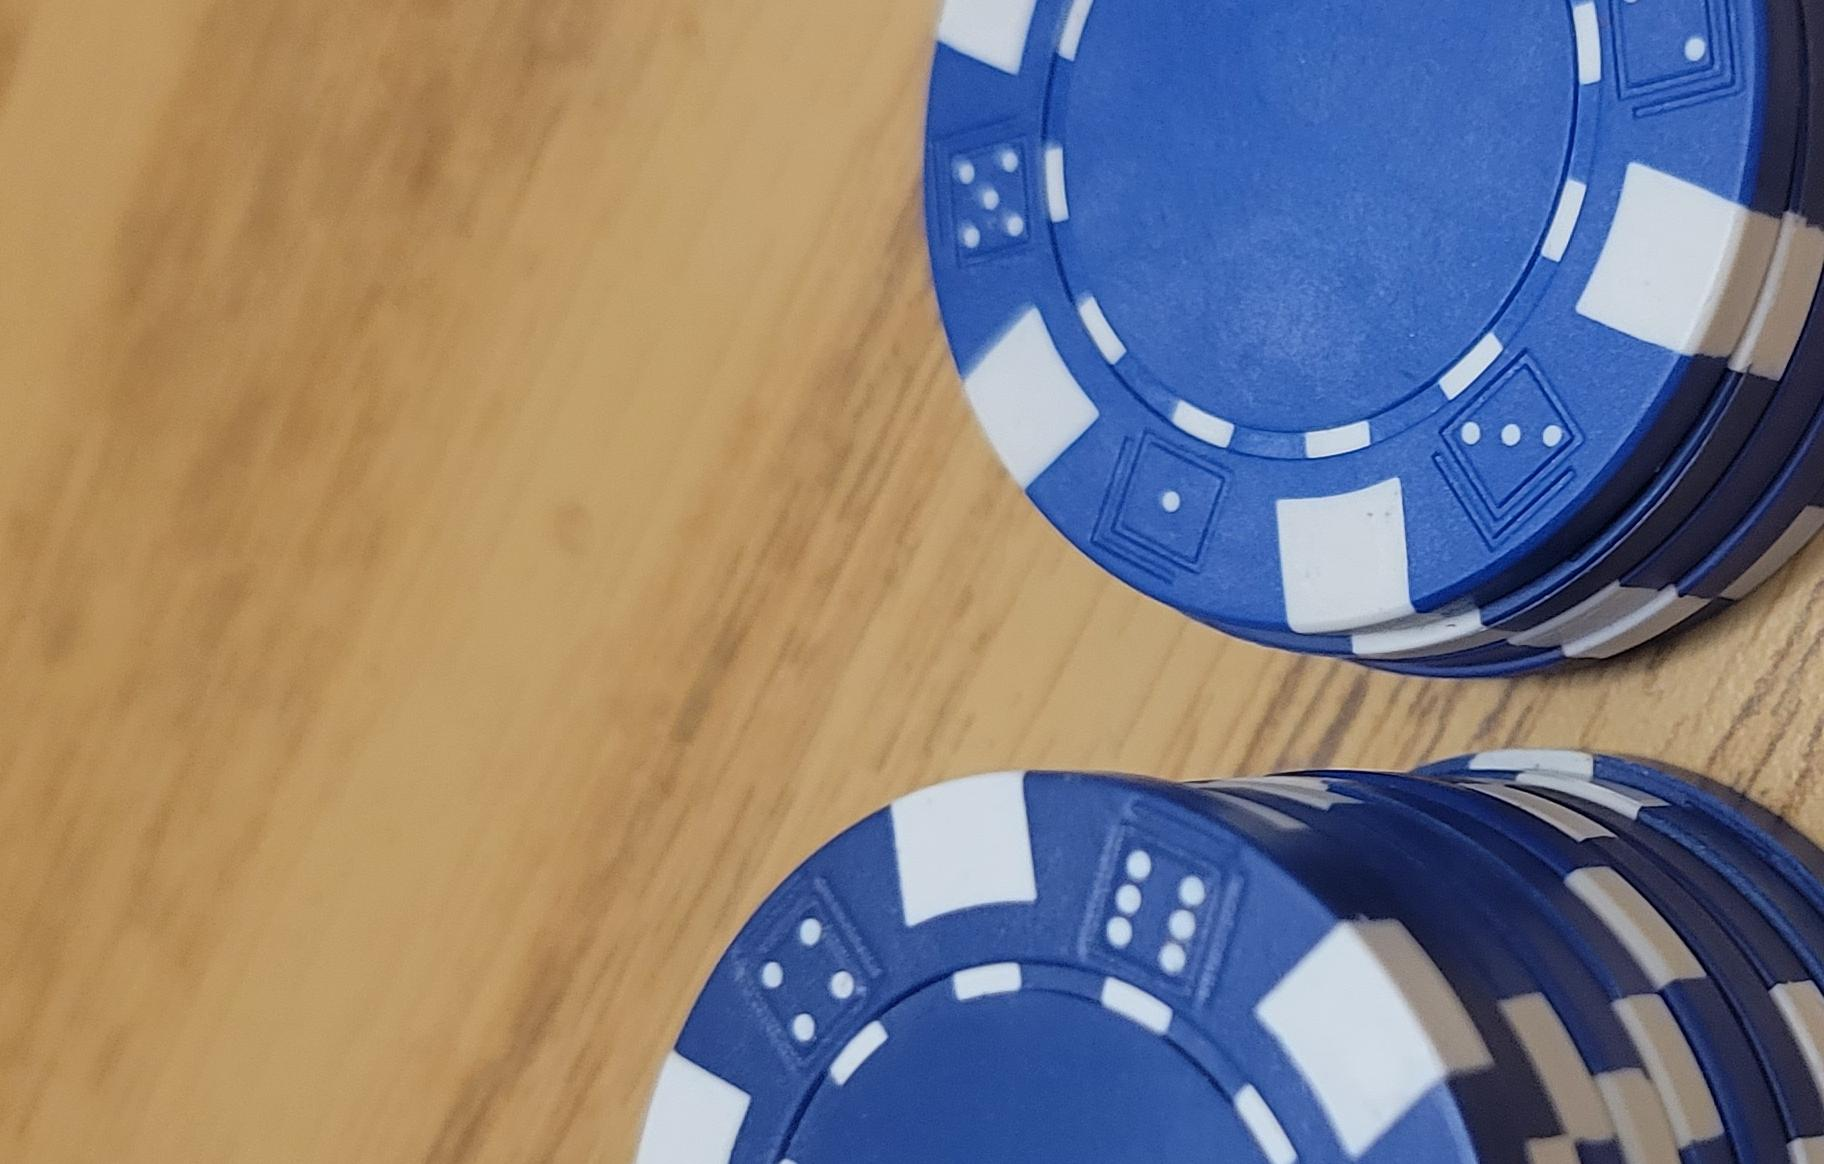Chip: (1, 237, 1272, 1164)
